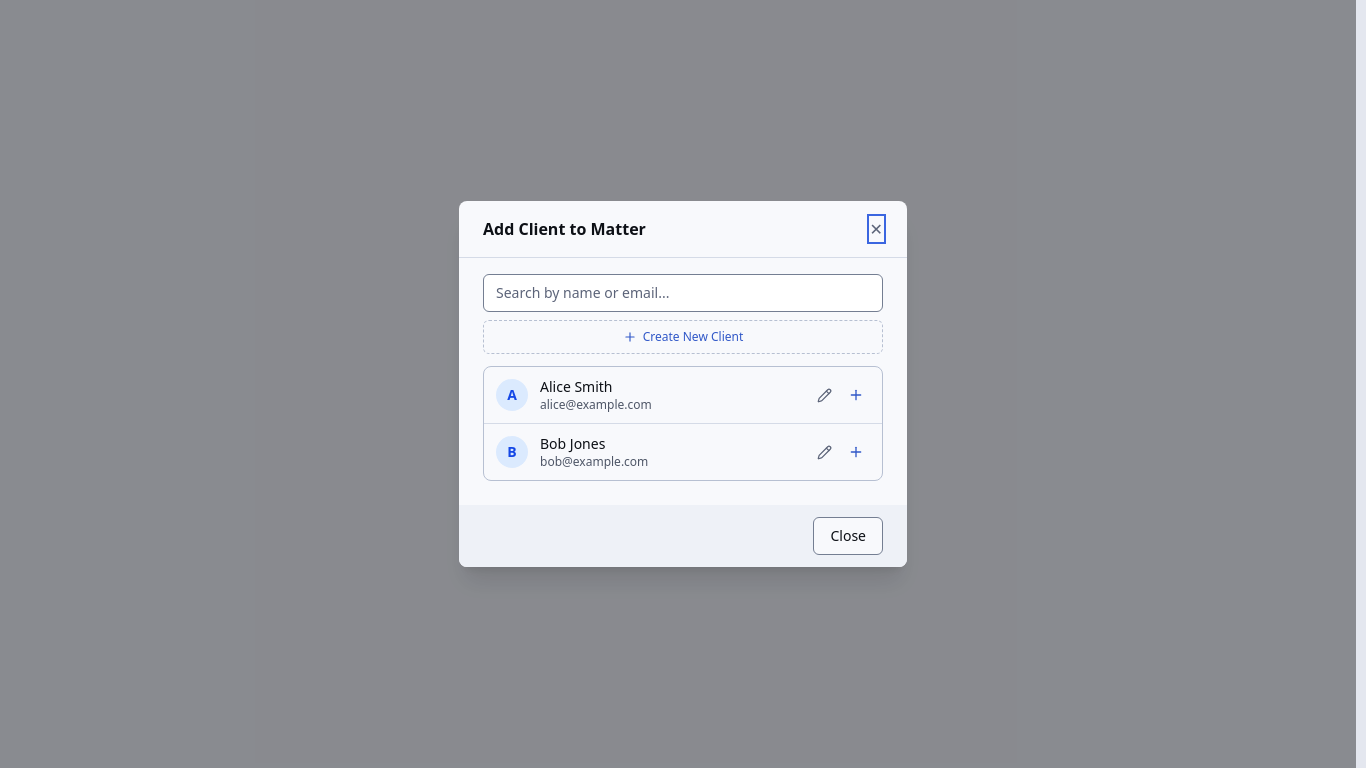
Scenario: a client detail that arrives after the user moved on › leaves the client now being edited in the form
The image size is (1366, 768).
Click the button named "Edit Client" next to "alice@example.com" at point(824, 395), box [811,382,838,408]
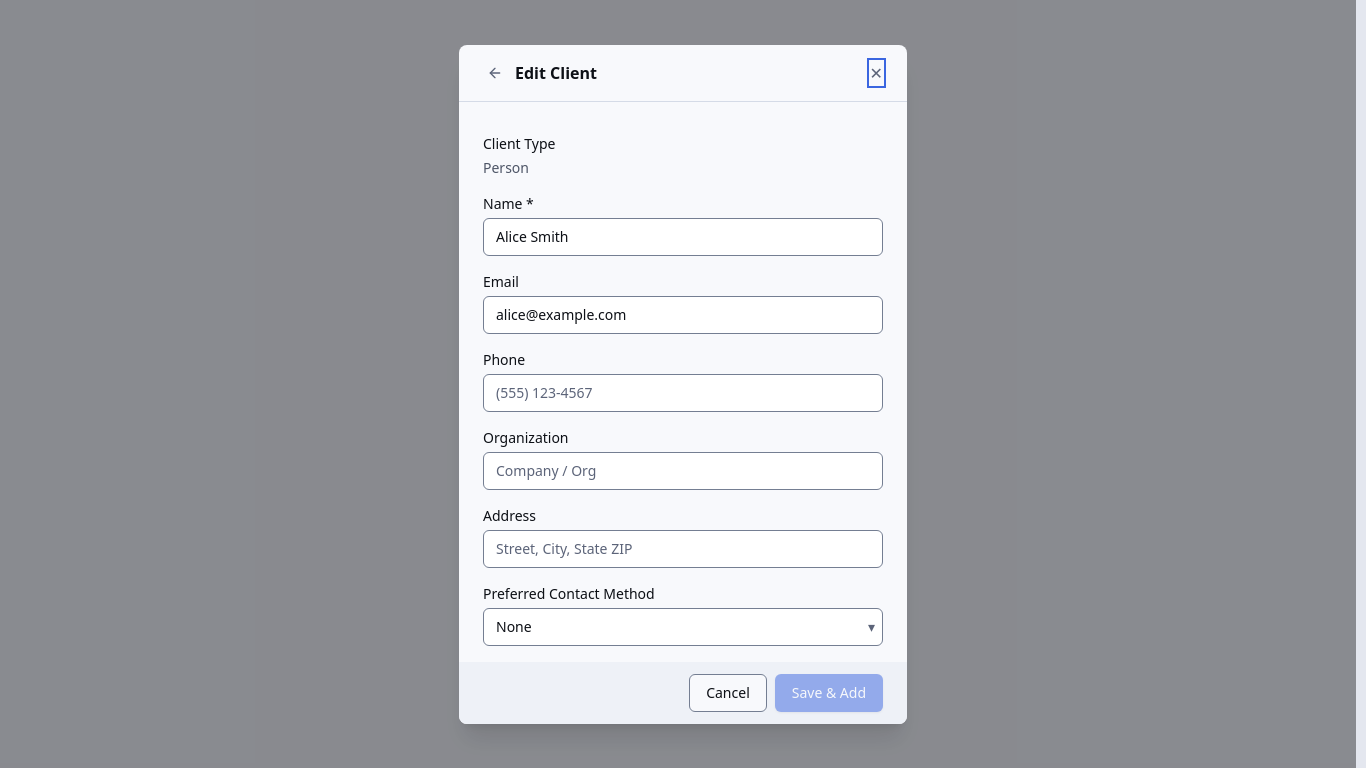
Click the button named "Back to search" at point(495, 72), box [483,60,507,84]
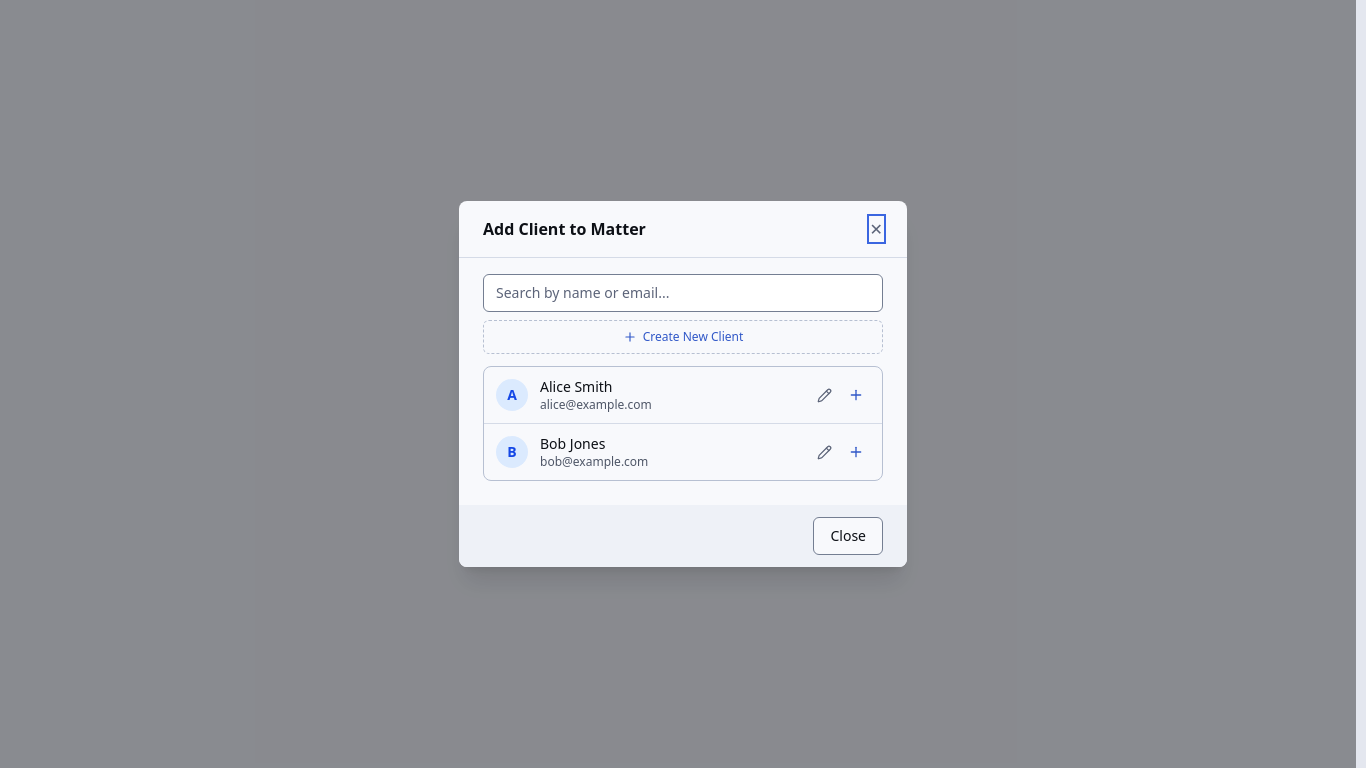
Click the button named "Edit Client" in the row of "bob@example.com" at point(824, 452), box [811,438,838,466]
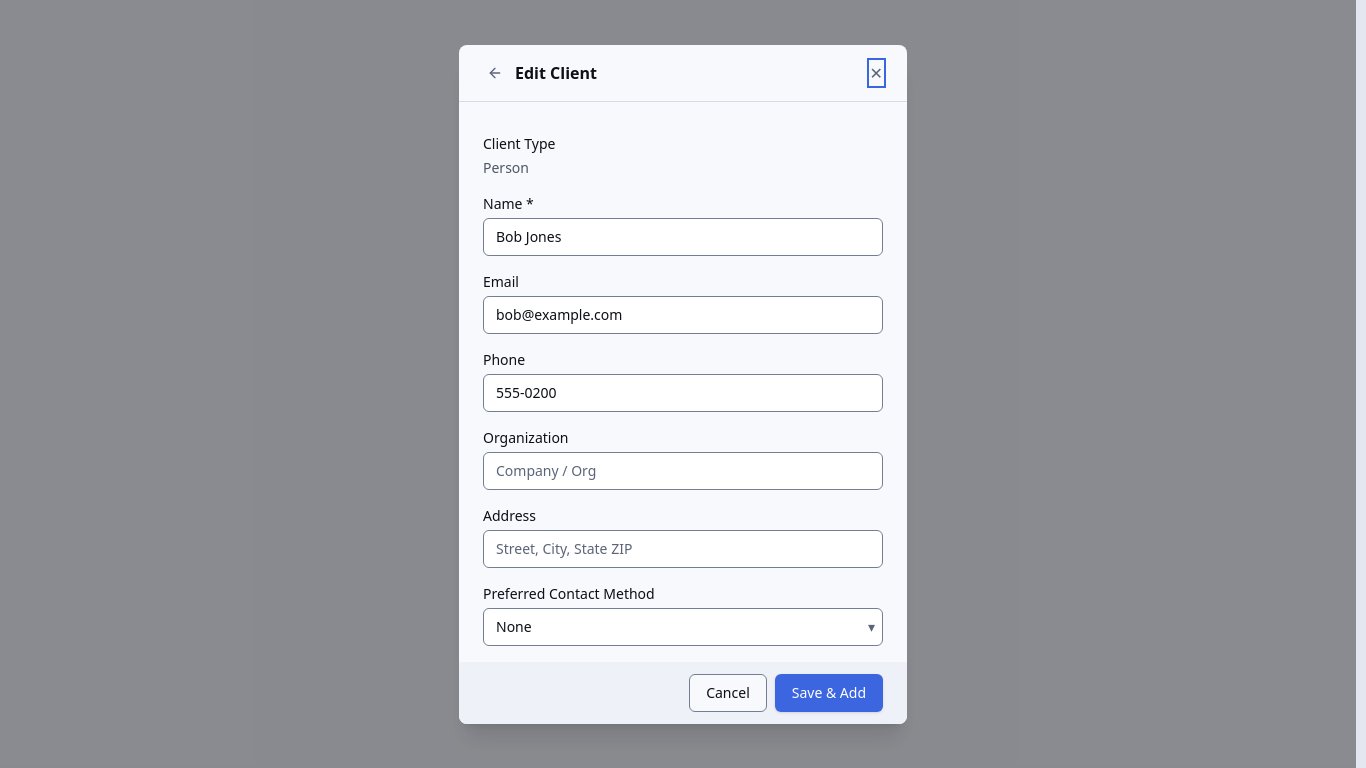
Expected: the field with placeholder "Full name" holds "Bob Jones", [483,218,883,256]
Expected: the field with placeholder "email@example.com" holds "bob@example.com", [483,296,883,334]
Expected: the field with placeholder "(555) 123-4567" holds "555-0200", [483,374,883,412]
